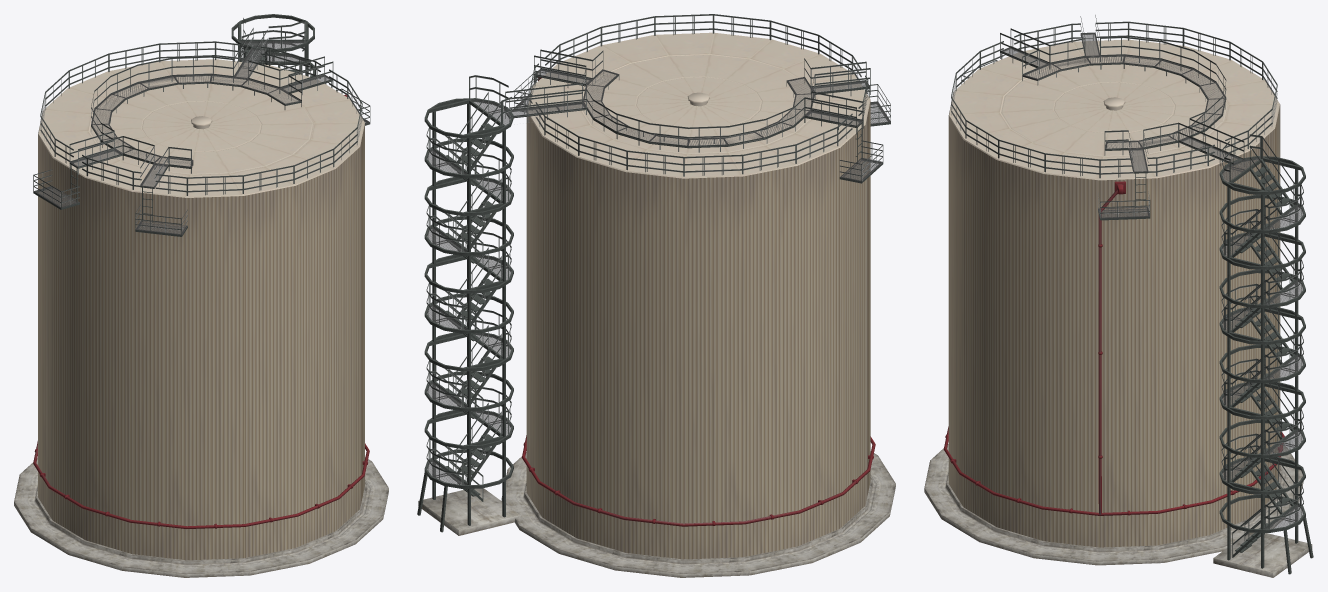
File: plant-40-2.glb
3 views of the same model, side by side, from view 1: azimuth 30°, elevation 25°; view 2: azimuth 150°, elevation 25°; view 3: azimuth 270°, elevation 25° (orthographic). The views are drawn at different scales.
Visible parts, largest first — view 1: Object8935438; view 2: Object8935438; view 3: Object8935438.
Part boxes in pixels (x1=…): Object8935438: x1=14, y1=14, x2=388, y2=577; Object8935438: x1=417, y1=14, x2=895, y2=577; Object8935438: x1=924, y1=15, x2=1313, y2=577.
Size of the model in its own units: 13.59 by 14.82 by 12.89.
Materials: 1 (1 with a texture image).
